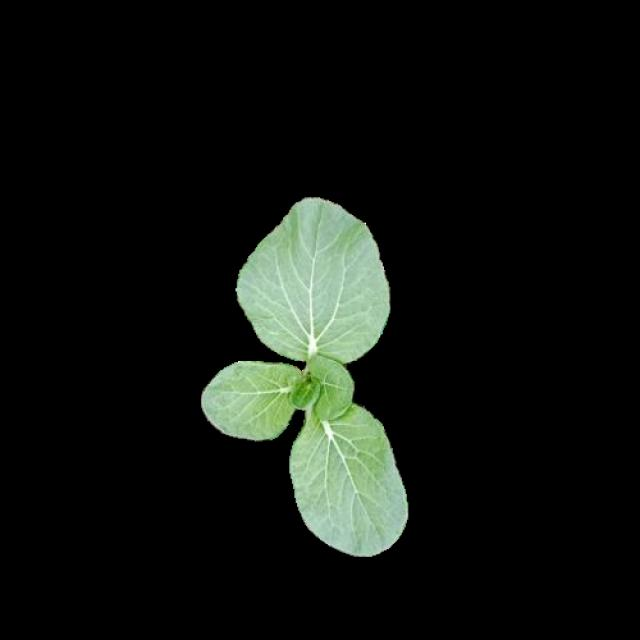healthy: (198, 193, 408, 558)
not-mature: (201, 195, 411, 560)
